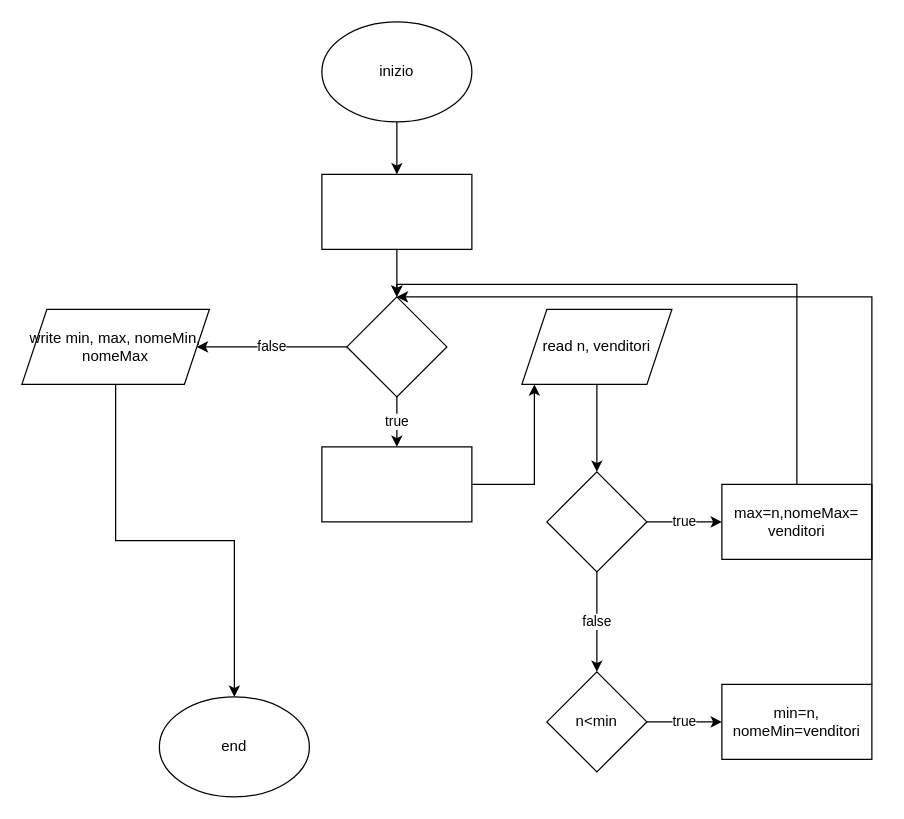
This 904x819 diagram has some shape labels left out. The shapes that lost their labels are listed below. From the top down, each one's centre as x and y in pixels, then its label:
[396,211]: i=0, max=0,min=0, nomeMax="", nomeMin=""
[396,346]: i<=20
[396,484]: i+=1
[596,521]: n>max
